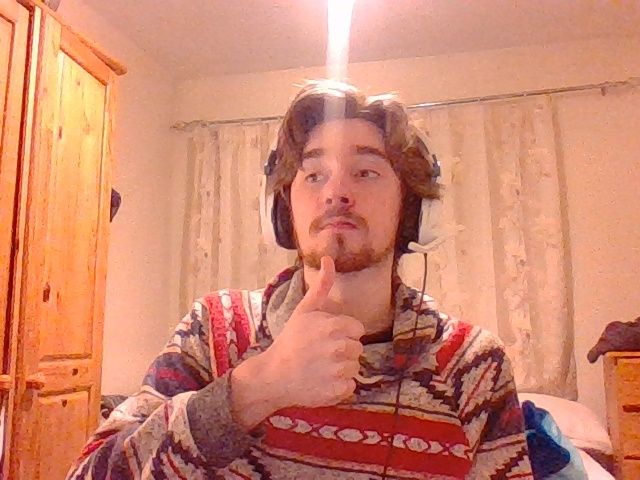good: (262, 255, 364, 405)
